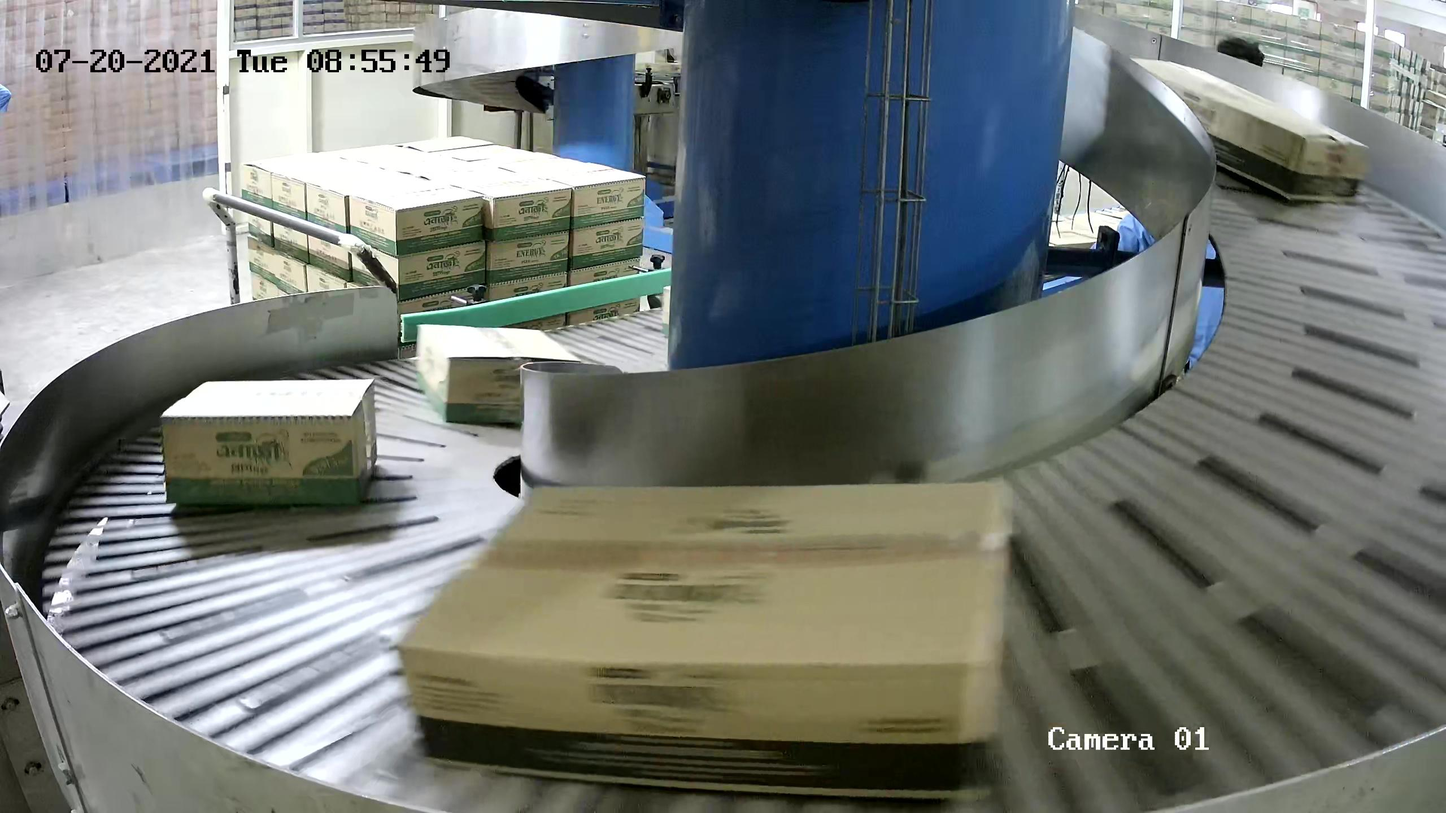Box: (391, 474, 1015, 806), (1127, 54, 1372, 204), (159, 376, 378, 509), (414, 322, 583, 426)
